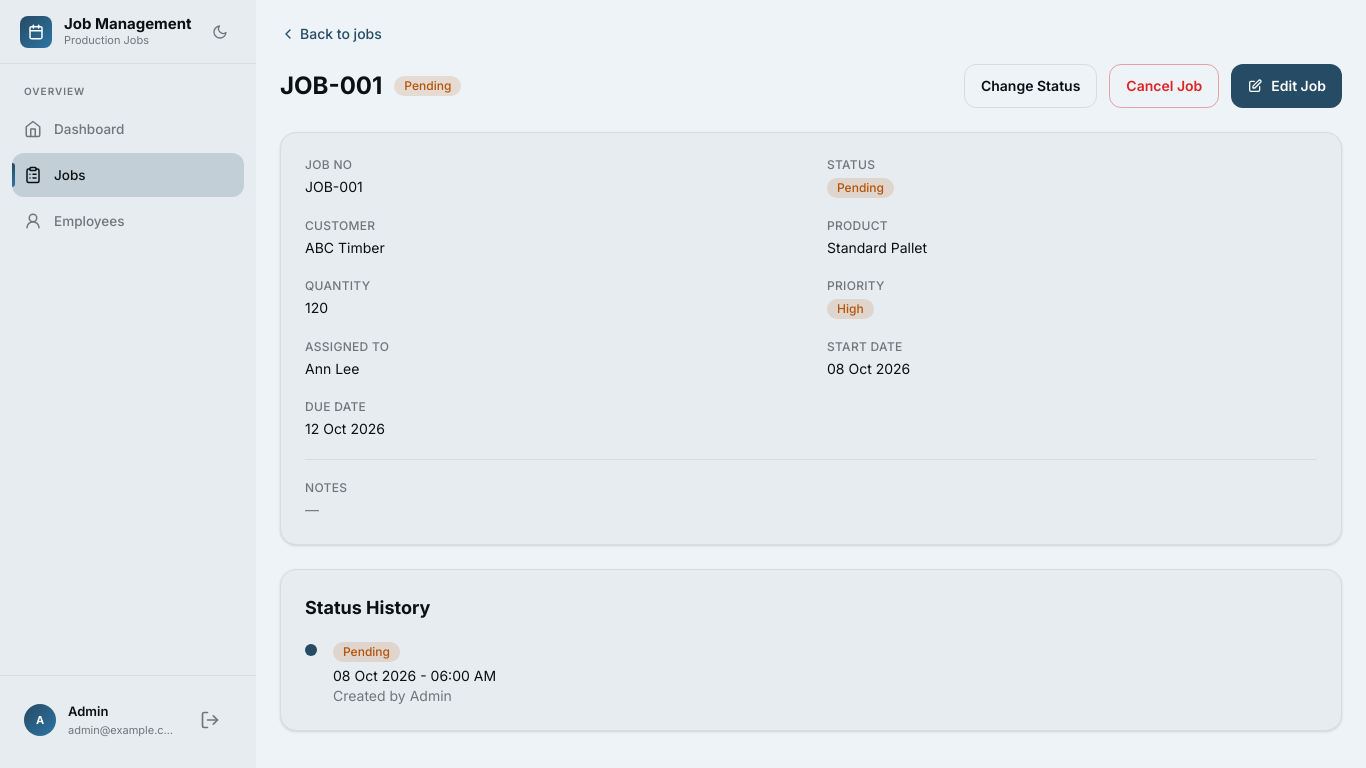
Test: status actions on the job details page › shows the server message and keeps the dialog open when the change is rejected
Check: the heading "JOB-001" is shown, box [280,70,382,102]
Click the button "Change Status" at (1031, 86), box [964,64,1097,108]
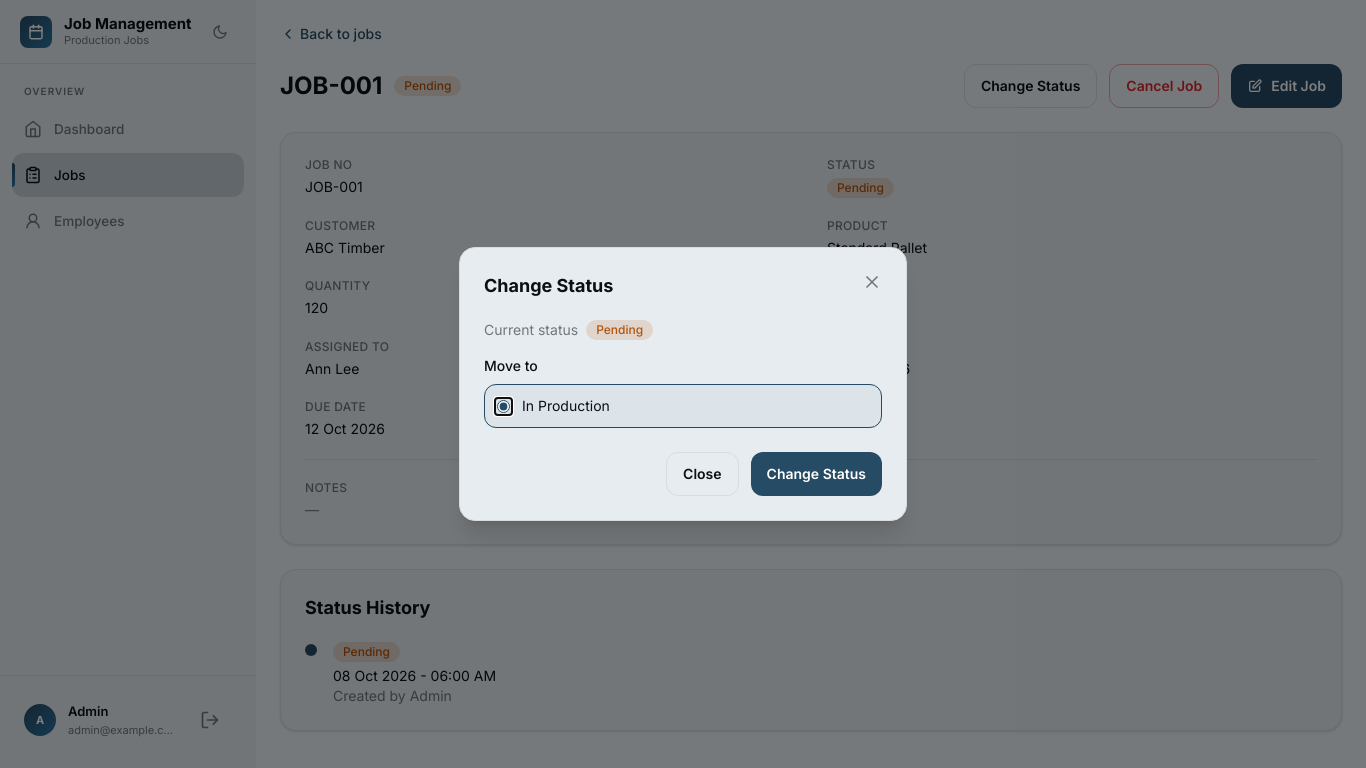
Click the button "Change Status" at (816, 474), box [751,452,882,496]
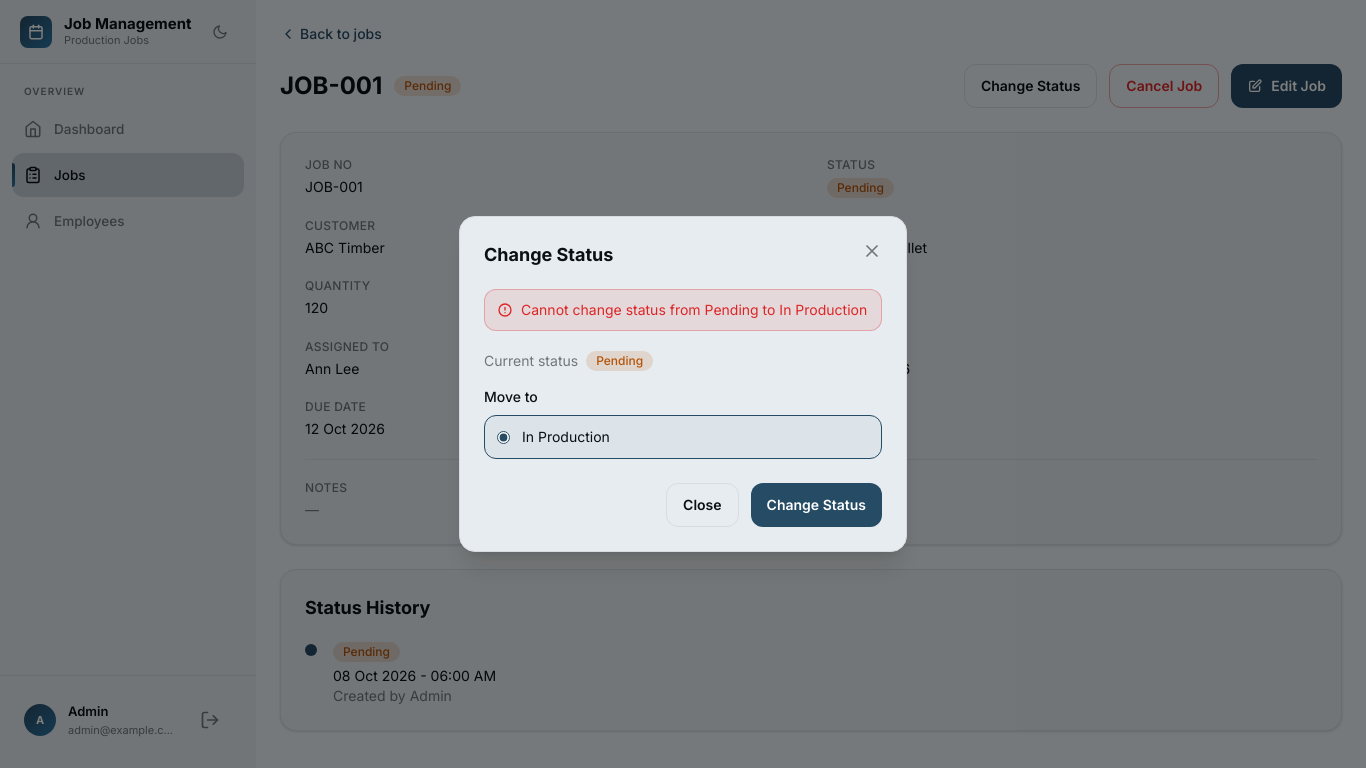
Check: the message reads "Cannot change status from Pending to In Production", box [521,301,867,318]
